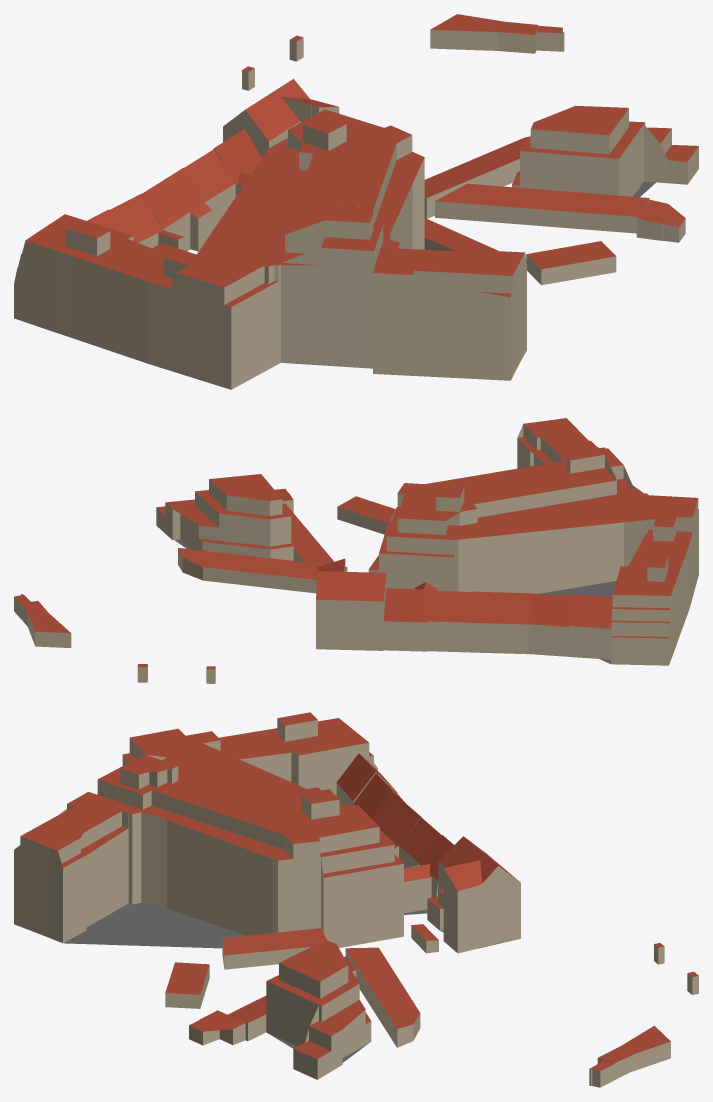
The model's file is ingolstadt_20_lod2_buildings.obj.
The picture shows the model from 3 angles, top to bottom: view 1: azimuth 30°, elevation 25°; view 2: azimuth 150°, elevation 25°; view 3: azimuth 270°, elevation 25°; orthographic projection. The views are drawn at different scales.
Visible parts, largest first — view 1: bldg_DEBY_L2_4392429, bldg_DEBY_L2_107777145, bldg_DEBY_L2_4392842, bldg_DEBY_L2_4392510, bldg_DEBY_L2_4392434, bldg_DEBY_L2_4392881, bldg_DEBY_L2_104848284, bldg_DEBY_L2_4392841, bldg_DEBY_L2_4392435, bldg_DEBY_L2_4392432, bldg_DEBY_L2_4392882, bldg_DEBY_L2_4392436 (+2 smaller); view 2: bldg_DEBY_L2_4392429, bldg_DEBY_L2_107777145, bldg_DEBY_L2_4392510, bldg_DEBY_L2_104848284, bldg_DEBY_L2_4392434, bldg_DEBY_L2_4392436, bldg_DEBY_L2_4392430, bldg_DEBY_L2_4392435, bldg_DEBY_L2_4392432, bldg_DEBY_L2_4392881, bldg_DEBY_L2_4392841, bldg_DEBY_L2_4392842; view 3: bldg_DEBY_L2_4392429, bldg_DEBY_L2_107777145, bldg_DEBY_L2_4392510, bldg_DEBY_L2_104848284, bldg_DEBY_L2_4392840, bldg_DEBY_L2_4392881, bldg_DEBY_L2_4392436, bldg_DEBY_L2_4392841, bldg_DEBY_L2_4392434, bldg_DEBY_L2_4392882, bldg_DEBY_L2_4392430, bldg_DEBY_L2_4392435 (+3 smaller).
Boxes of the visible parts, x1,y1,x2,y2 form: bldg_DEBY_L2_4392429: [14, 109, 526, 389]; bldg_DEBY_L2_107777145: [512, 105, 698, 197]; bldg_DEBY_L2_4392842: [435, 183, 649, 233]; bldg_DEBY_L2_4392510: [223, 79, 339, 157]; bldg_DEBY_L2_4392434: [142, 168, 212, 251]; bldg_DEBY_L2_4392881: [430, 14, 538, 53]; bldg_DEBY_L2_104848284: [424, 136, 530, 218]; bldg_DEBY_L2_4392841: [526, 241, 616, 285]; bldg_DEBY_L2_4392435: [184, 149, 235, 230]; bldg_DEBY_L2_4392432: [109, 193, 183, 250]; bldg_DEBY_L2_4392882: [636, 200, 685, 242]; bldg_DEBY_L2_4392436: [213, 129, 261, 196]; bldg_DEBY_L2_4392429: [379, 418, 698, 665]; bldg_DEBY_L2_107777145: [156, 474, 293, 560]; bldg_DEBY_L2_4392510: [316, 558, 389, 650]; bldg_DEBY_L2_104848284: [178, 548, 347, 593]; bldg_DEBY_L2_4392434: [470, 591, 531, 654]; bldg_DEBY_L2_4392436: [383, 582, 437, 651]; bldg_DEBY_L2_4392430: [569, 595, 612, 659]; bldg_DEBY_L2_4392435: [427, 590, 472, 652]; bldg_DEBY_L2_4392432: [528, 593, 571, 656]; bldg_DEBY_L2_4392881: [20, 601, 71, 647]; bldg_DEBY_L2_4392841: [337, 496, 395, 534]; bldg_DEBY_L2_4392842: [282, 503, 334, 564]; bldg_DEBY_L2_4392429: [14, 712, 403, 948]; bldg_DEBY_L2_107777145: [266, 940, 371, 1079]; bldg_DEBY_L2_4392510: [427, 836, 520, 953]; bldg_DEBY_L2_104848284: [345, 947, 420, 1047]; bldg_DEBY_L2_4392840: [222, 928, 327, 969]; bldg_DEBY_L2_4392881: [597, 1025, 670, 1079]; bldg_DEBY_L2_4392436: [404, 835, 454, 914]; bldg_DEBY_L2_4392841: [165, 962, 209, 1008]; bldg_DEBY_L2_4392434: [371, 792, 426, 858]; bldg_DEBY_L2_4392882: [189, 1010, 245, 1045]; bldg_DEBY_L2_4392430: [336, 753, 397, 805]; bldg_DEBY_L2_4392435: [399, 817, 441, 868].
Bounding box in the file's own units: 117 × 22.01 × 113.
